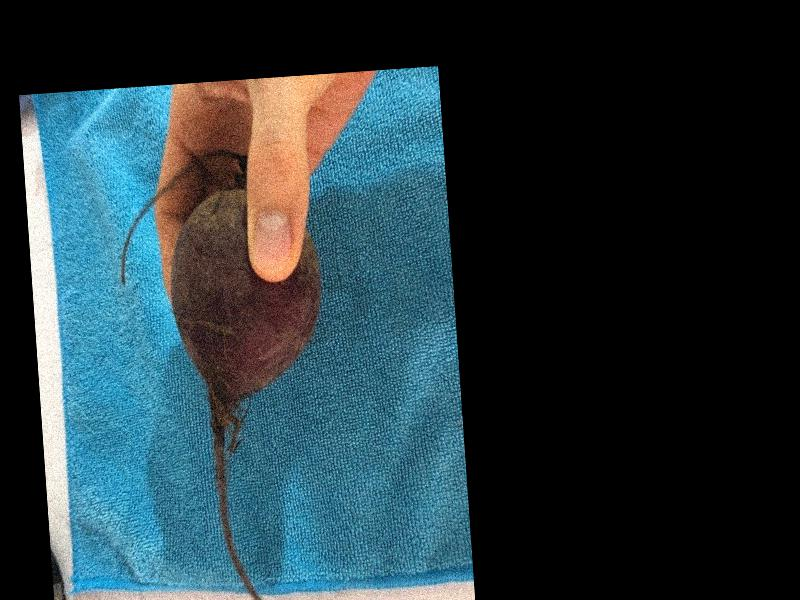Beet: (114, 145, 344, 600)
